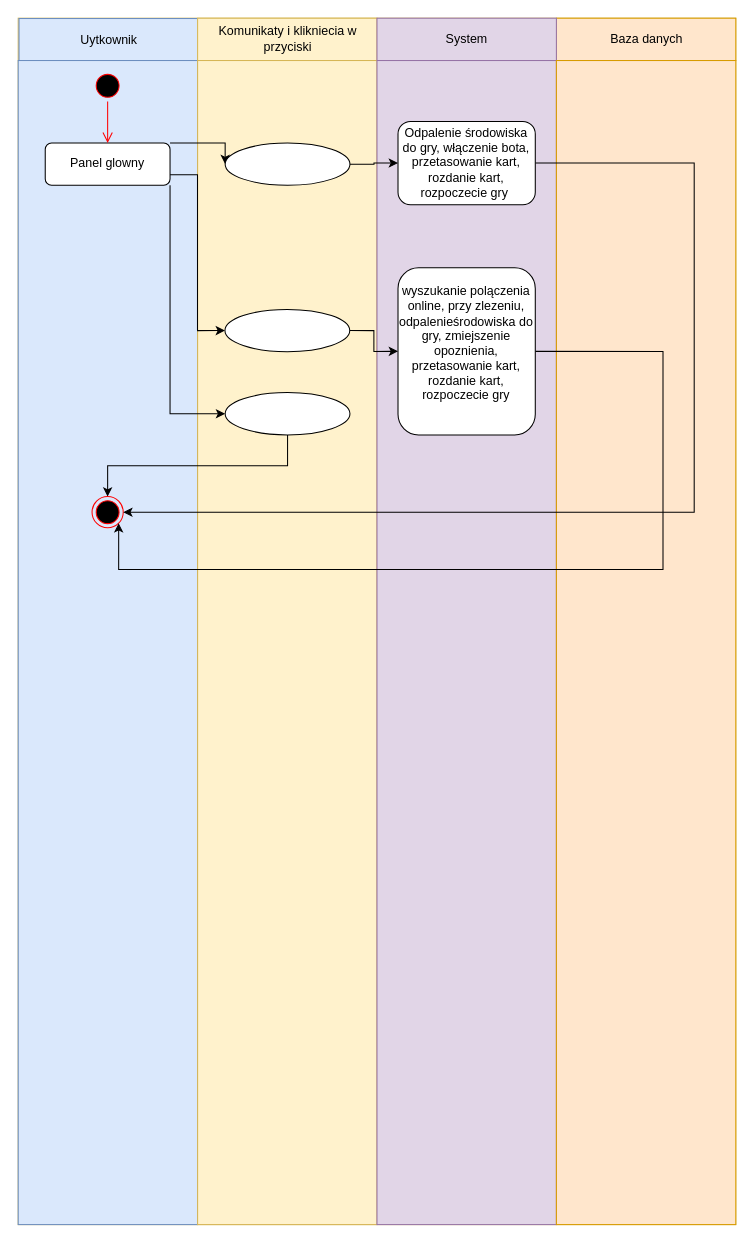
Some shapes in this 754 by 1243 pixel diagram are drawn without their labels. Here are the shapes that lost their labels. From the top down, the centre of each, then its label:
(x=287, y=163): Graj z botem
(x=287, y=330): Graj online
(x=287, y=413): Exit
